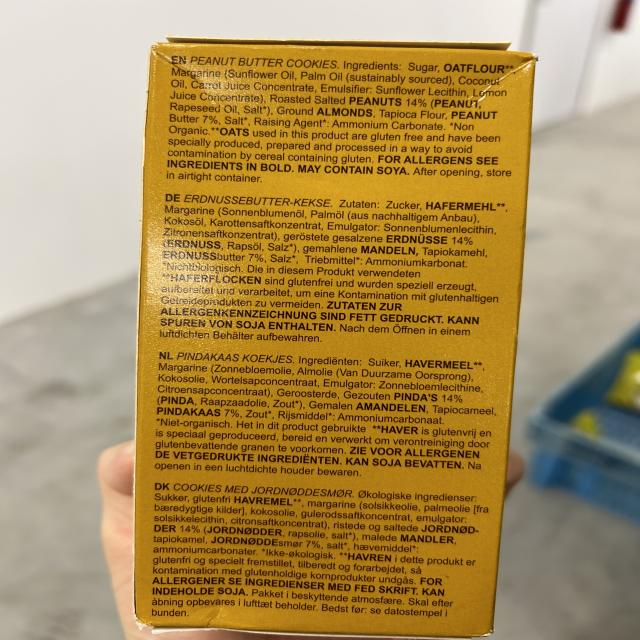object_name: (155, 40, 488, 635)
